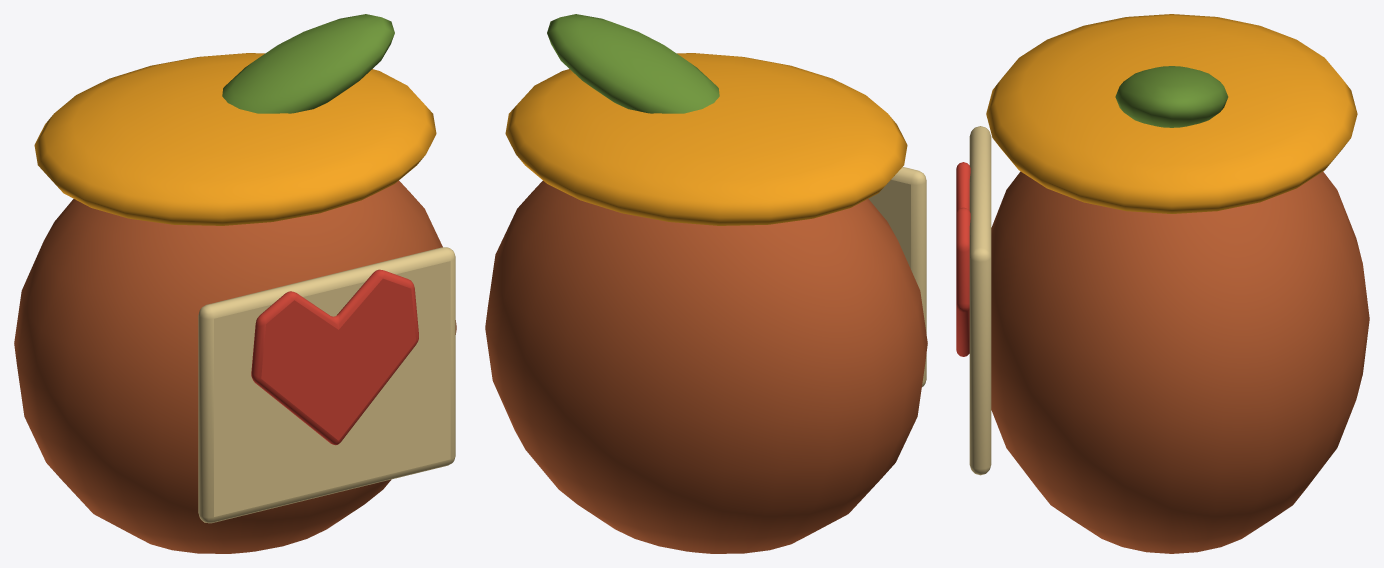
The model's file is pickup_healing.glb.
3 views of the same model, side by side, from view 1: azimuth 30°, elevation 25°; view 2: azimuth 150°, elevation 25°; view 3: azimuth 270°, elevation 25° (orthographic). The views are drawn at different scales.
Parts seen in each view (by area): view 1: PickupGeometryGeometry; view 2: PickupGeometryGeometry; view 3: PickupGeometryGeometry.
Part boxes in pixels (box(x1,y1,x2,y2)): PickupGeometryGeometry: box(14, 14, 456, 553); PickupGeometryGeometry: box(485, 14, 927, 553); PickupGeometryGeometry: box(956, 14, 1369, 553).
Bounding box in the file's own units: 0.6 × 0.6946 × 0.512.
